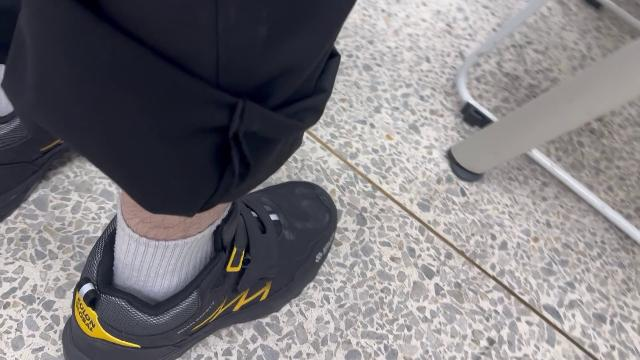shoe_worn: (56, 180, 339, 359)
